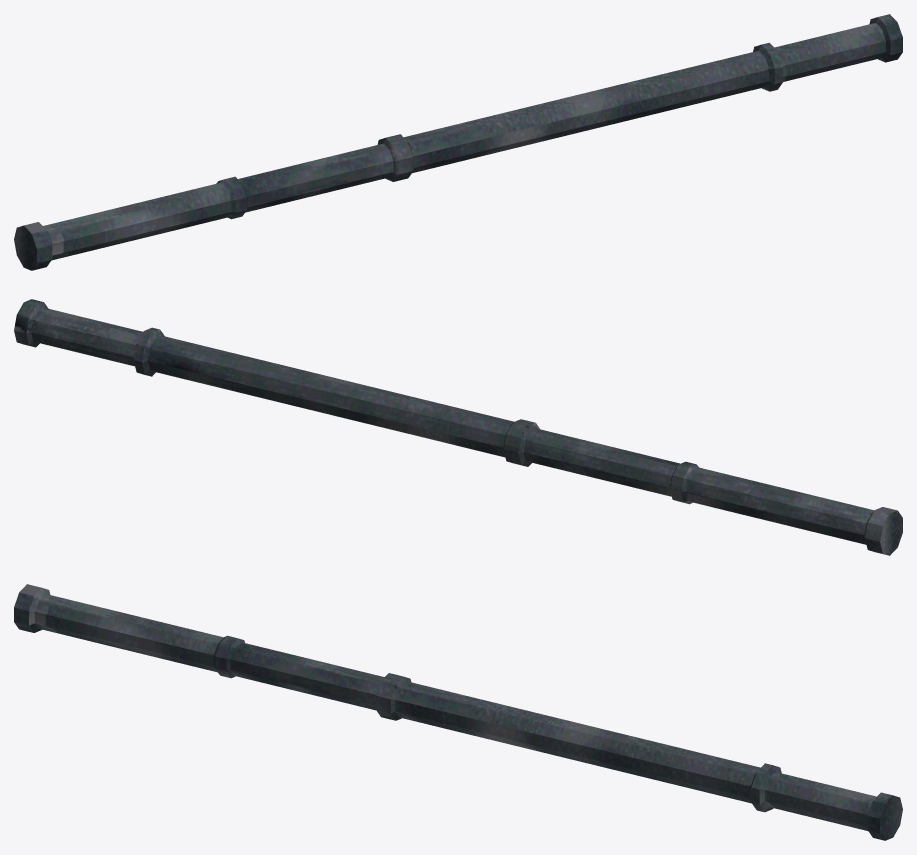
Rendered from Straightpipe.glb.
3 renders of one model, top to bottom at view 1: azimuth 30°, elevation 25°; view 2: azimuth 150°, elevation 25°; view 3: azimuth 330°, elevation 25°, orthographic.
Parts seen in each view (by area): view 1: StraightPipe; view 2: StraightPipe; view 3: StraightPipe.
Boxes of the visible parts, bbox=[...] form: StraightPipe: bbox=[14, 14, 902, 270]; StraightPipe: bbox=[14, 299, 902, 555]; StraightPipe: bbox=[14, 584, 902, 840].
Size of what is drawn, in the model's own units: 171 by 8.28 by 8.15.
1 material, 1 textured.
